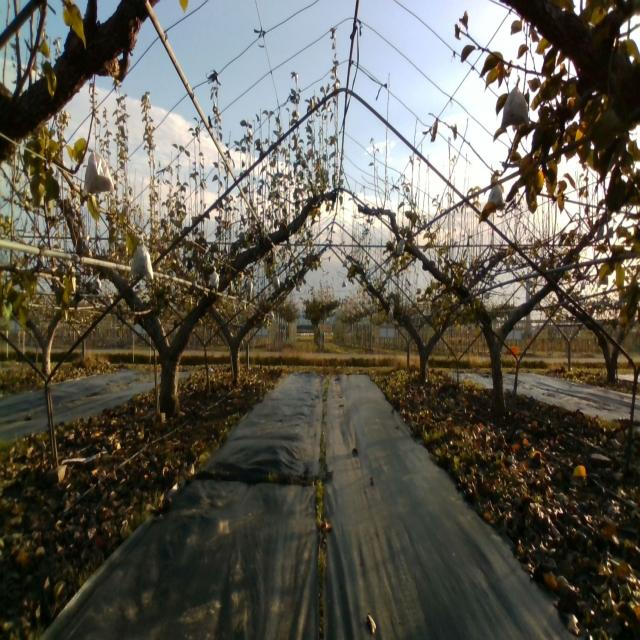pearbags: (82, 147, 114, 197), (501, 77, 530, 129), (130, 234, 154, 280), (488, 186, 506, 203), (396, 238, 406, 256)
